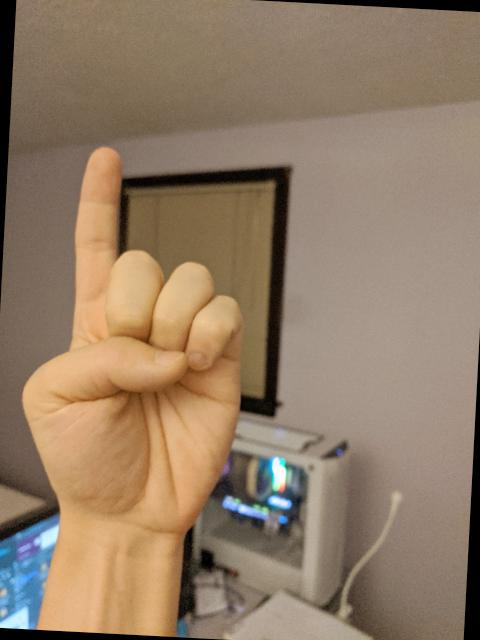D: (9, 138, 258, 543)
